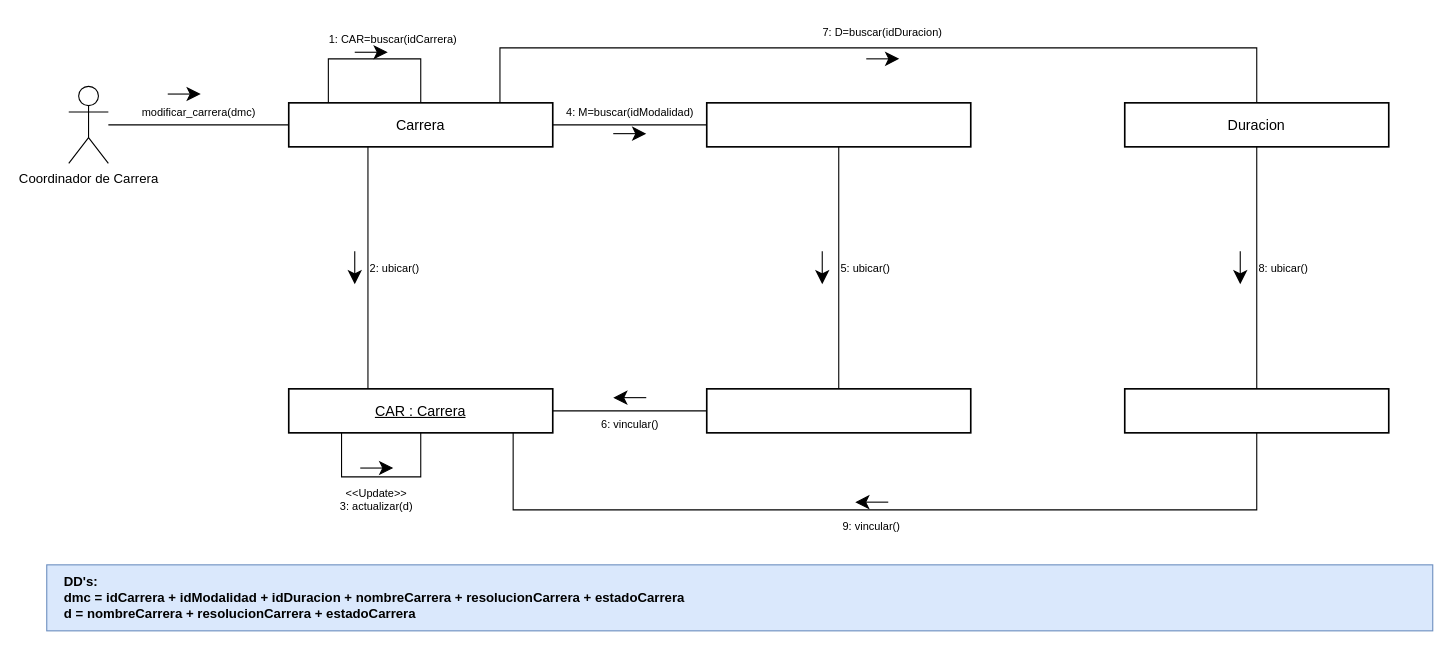
Some shapes in this 1452 by 650 pixel diagram are drawn without their labels. Here are the shapes that lost their labels. From the top down, the box of each, then its label:
(705, 102, 971, 147): Modalidad
(705, 388, 971, 433): M : Modalidad
(1123, 388, 1389, 433): D : Duracion
